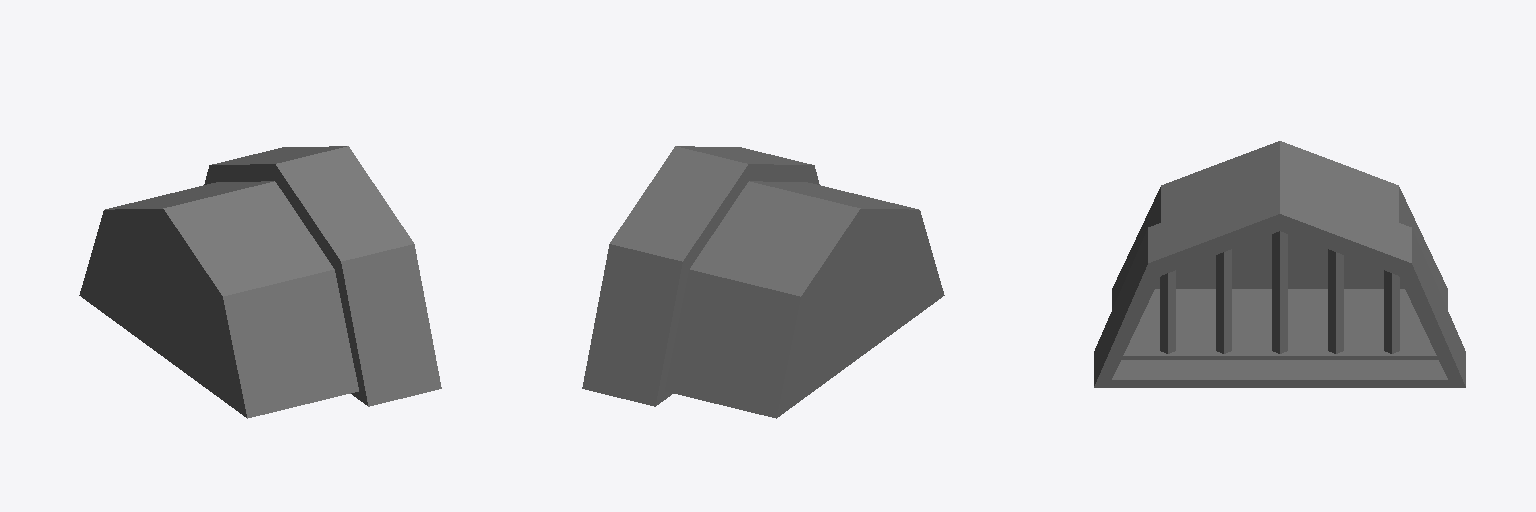
File: Drain.obj
3 renders of one model, left to right at view 1: azimuth 30°, elevation 25°; view 2: azimuth 150°, elevation 25°; view 3: azimuth 270°, elevation 25°, orthographic.
Parts seen in each view (by area): view 1: pCylinder1 group1; view 2: pCylinder1 group1; view 3: pCylinder1 group1, group1 pCylinder2, group1 pCylinder3, group1 pCylinder4, group1 pCylinder5, group1 pCylinder6.
Boxes of the visible parts, box(x1,y1,x2,y2) form: pCylinder1 group1: box(79, 146, 441, 418); pCylinder1 group1: box(582, 146, 944, 418); pCylinder1 group1: box(1094, 141, 1465, 387); group1 pCylinder2: box(1272, 231, 1287, 353); group1 pCylinder3: box(1216, 249, 1231, 353); group1 pCylinder4: box(1328, 249, 1343, 353); group1 pCylinder5: box(1384, 270, 1399, 353); group1 pCylinder6: box(1160, 270, 1175, 353).
Bounding box in the file's own units: 1.15 × 1.03 × 2.